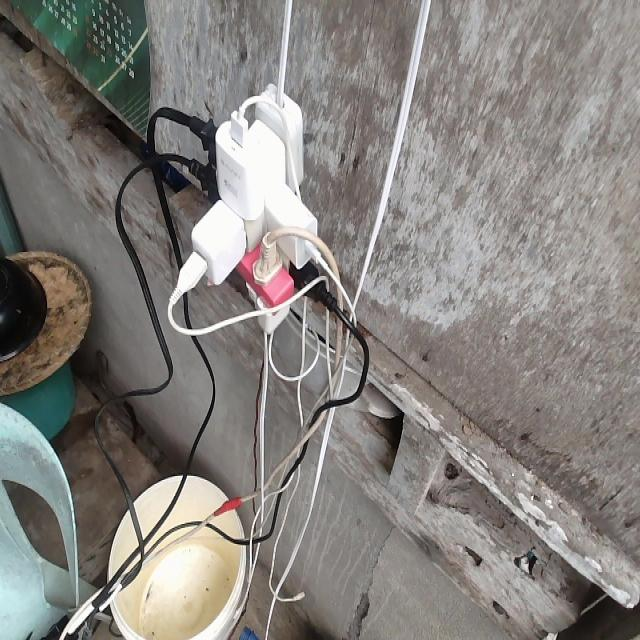-: (167, 80, 324, 333)
